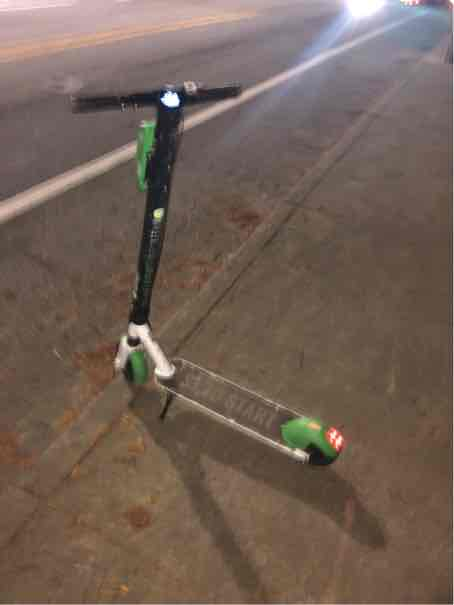too close: (78, 316, 177, 412)
